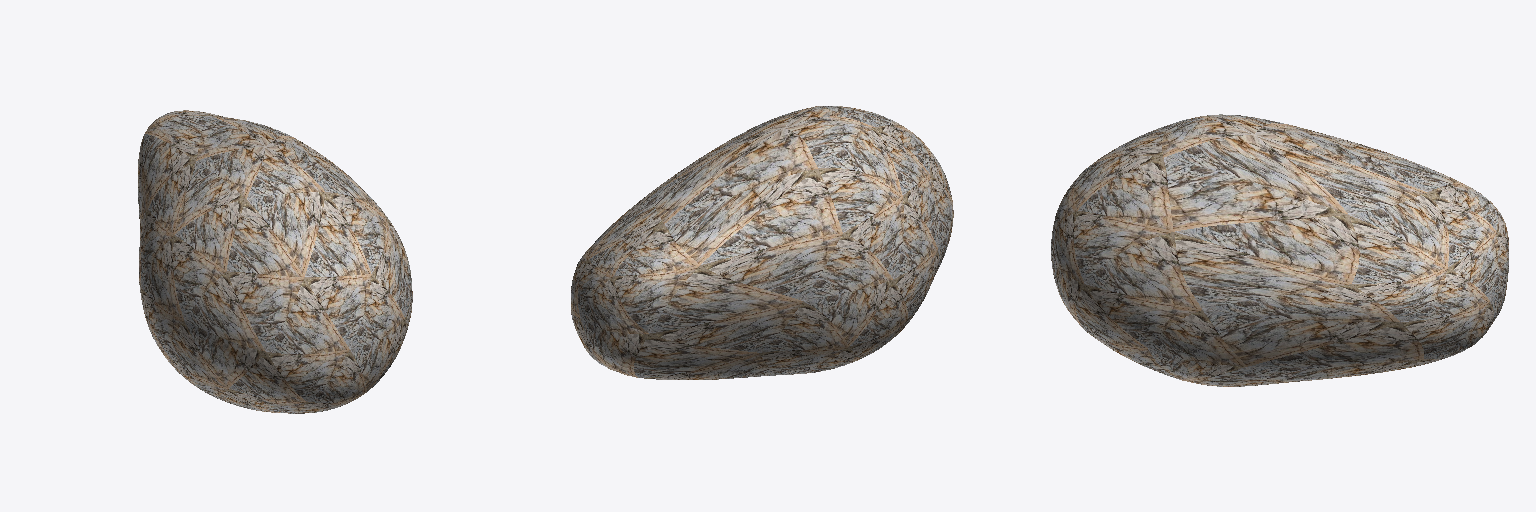
3 views of the same model, side by side, from view 1: azimuth 30°, elevation 25°; view 2: azimuth 150°, elevation 25°; view 3: azimuth 270°, elevation 25° (orthographic).
Parts seen in each view (by area): view 1: Icosphere; view 2: Icosphere; view 3: Icosphere.
Boxes of the visible parts, <box> form: Icosphere: <box>138,110,412,413</box>; Icosphere: <box>571,106,953,379</box>; Icosphere: <box>1051,114,1508,386</box>.
Bounding box in the file's own units: 1.97 × 1.84 × 3.11.
1 materials, 1 textured.